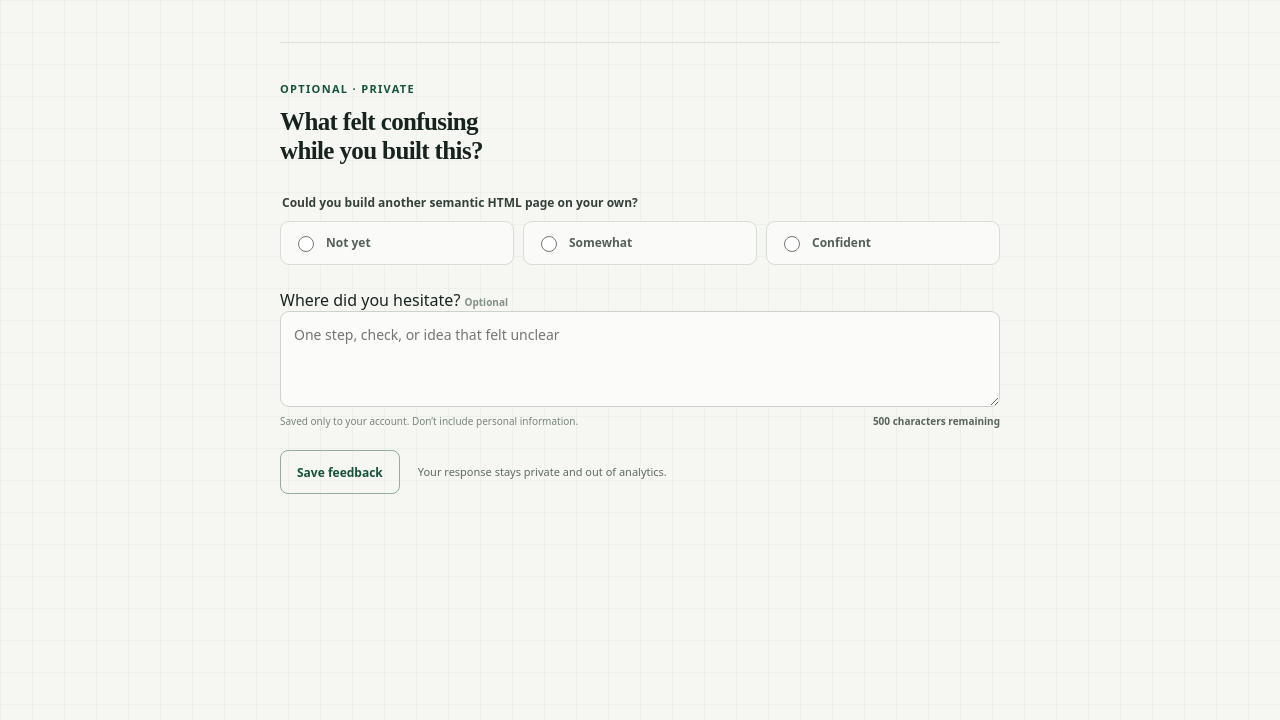
it: ProjectFeedback › saves private feedback without sending its text to analytics
Click the radio button labelled "Confident" at (792, 244), box [784,236,800,252]
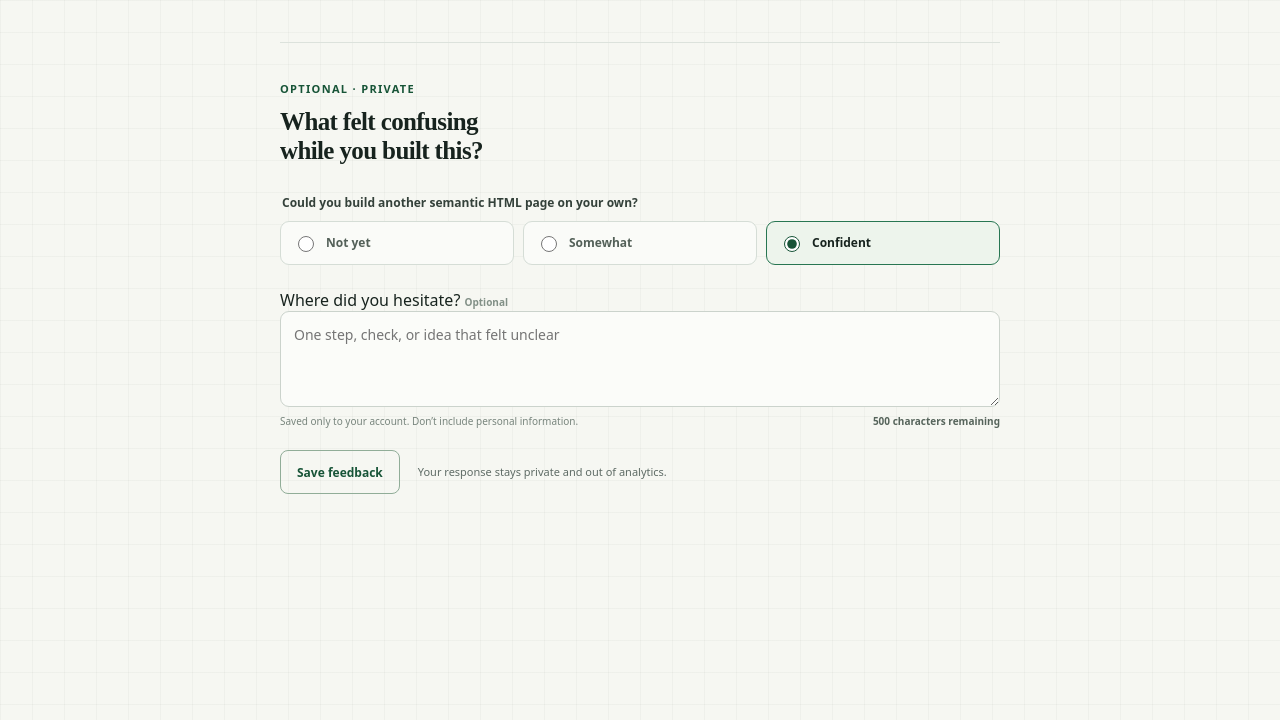
Type "I hesitated on the aside." into the text box with placeholder "One step, check, or idea that felt unclear" at (640, 358), box [280,310,1000,406]
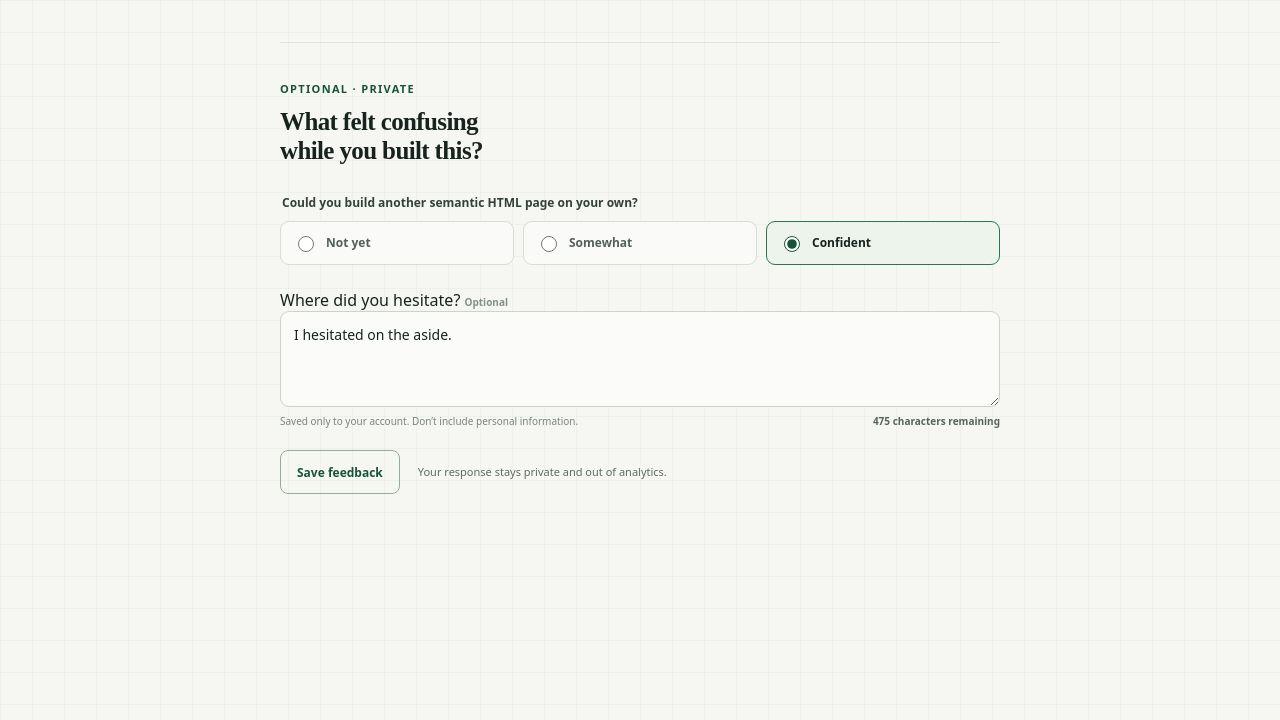
Click the button "Save feedback" at (340, 472), box [280,450,400,494]
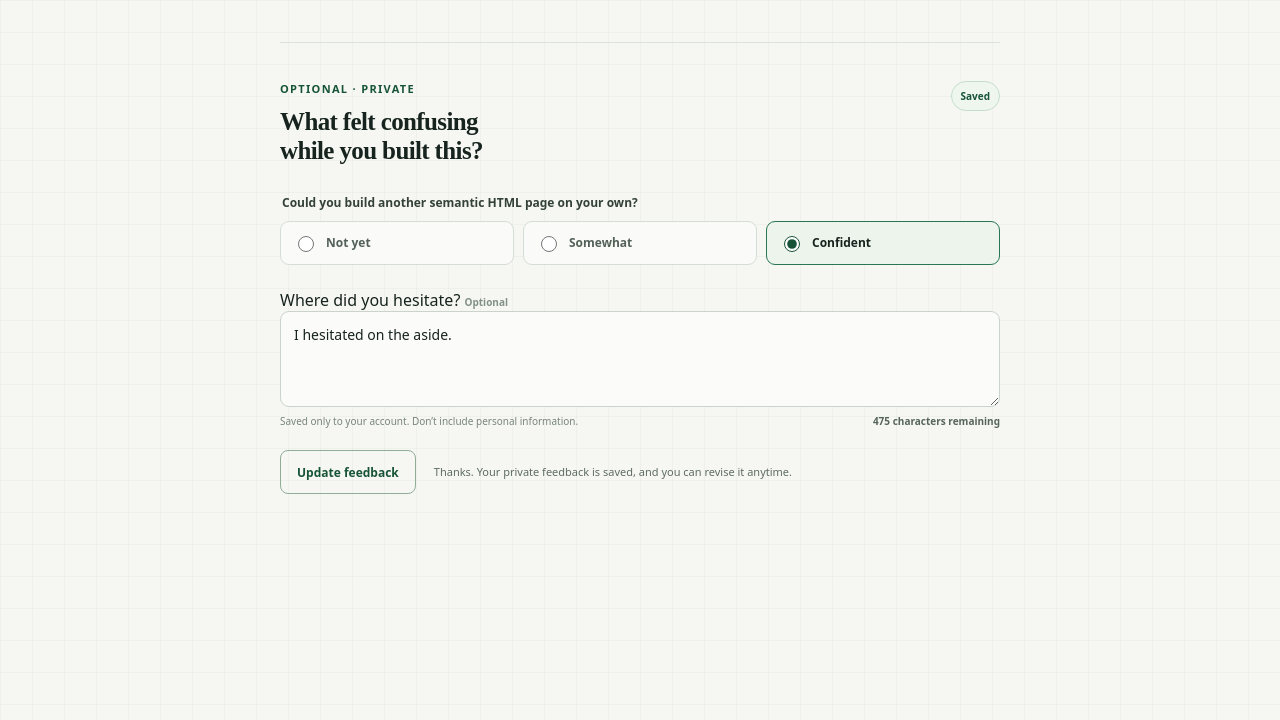
Expected: the text "private feedback is saved" is shown, [434,464,792,479]
